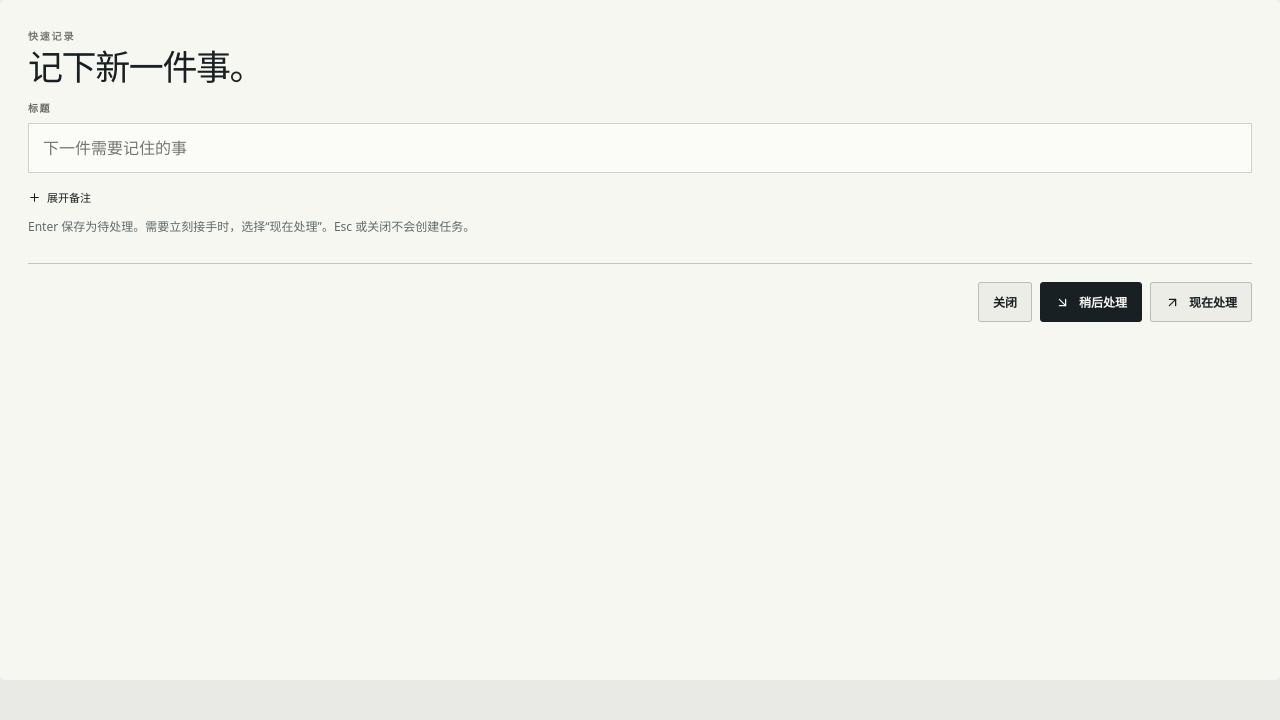
Test case: does not submit a blank title
Click the button "稍后处理": (1091,302) [1040,282,1142,322]
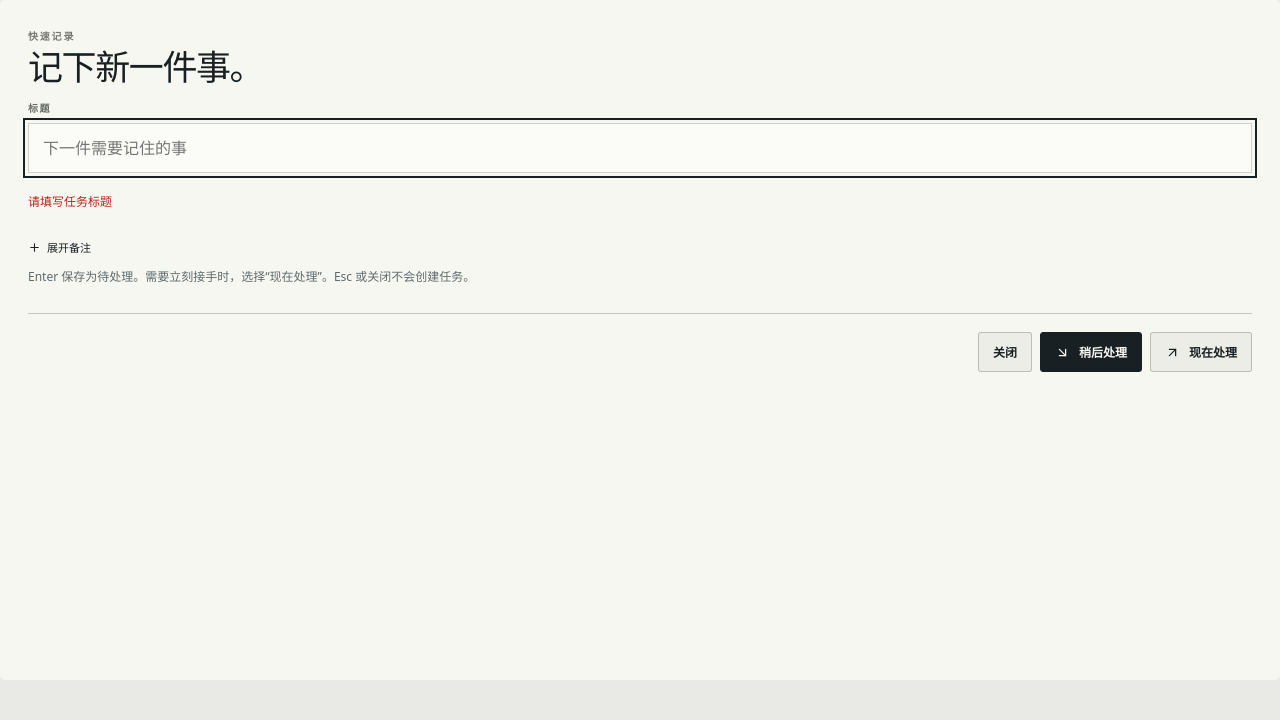
expect the text "请填写任务标题" is shown: met, box [28,193,112,210]
